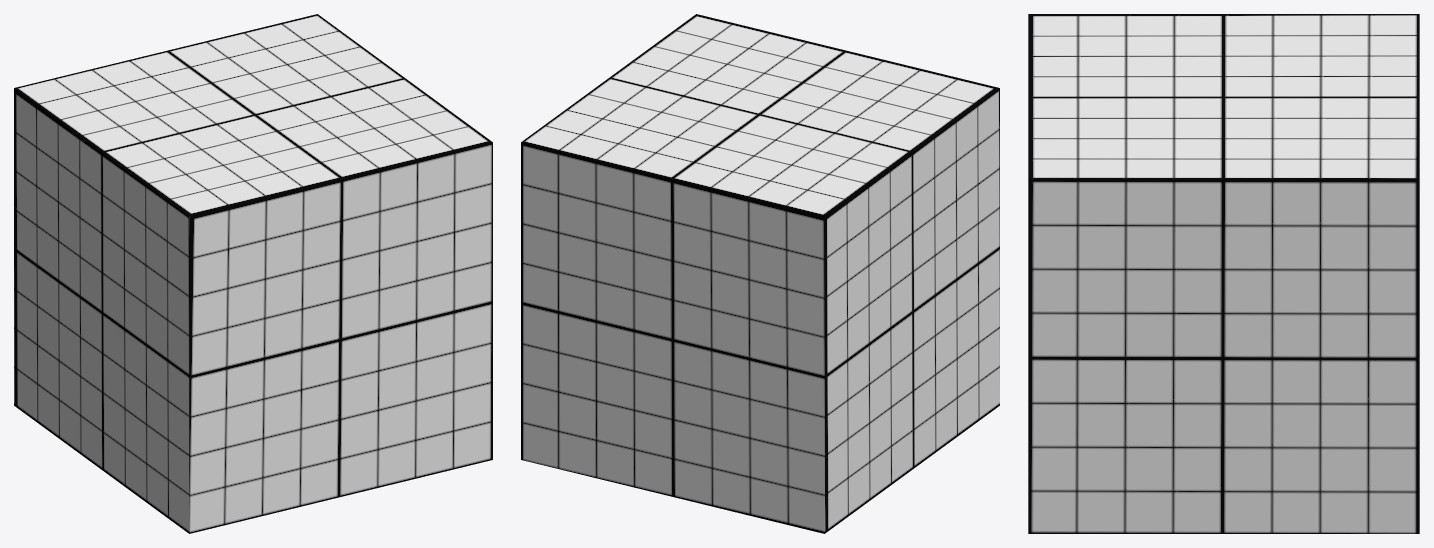
The model's file is CubeWGrid.fbx.
The picture shows the model from 3 angles, left to right: view 1: azimuth 30°, elevation 25°; view 2: azimuth 150°, elevation 25°; view 3: azimuth 270°, elevation 25°; orthographic projection. The views are drawn at different scales.
Visible parts, largest first — view 1: Cube; view 2: Cube; view 3: Cube.
Part boxes in pixels (x1,y1,x2,y2): Cube: [14, 14, 492, 533]; Cube: [521, 14, 999, 533]; Cube: [1028, 14, 1419, 533].
Size of the model in its own units: 200 by 200 by 200.
Materials: 1 (1 with a texture image).
